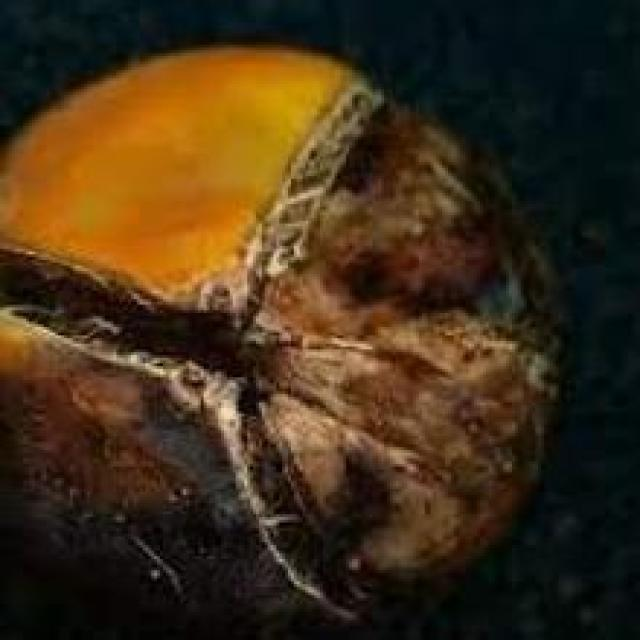damaged: (0, 39, 573, 637)
